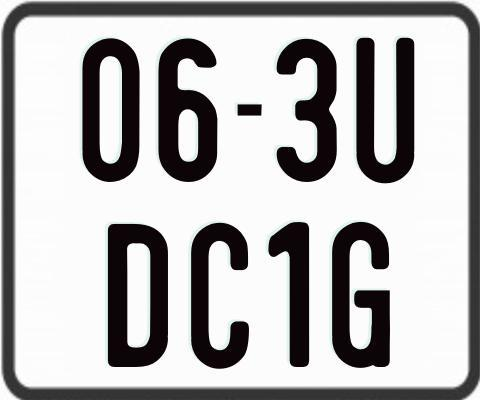0: (82, 36, 144, 182)
1: (266, 221, 309, 366)
3: (277, 37, 338, 183)
6: (157, 36, 217, 185)
C: (190, 220, 249, 369)
D: (106, 223, 170, 367)
G: (332, 220, 395, 371)
U: (353, 38, 417, 189)
